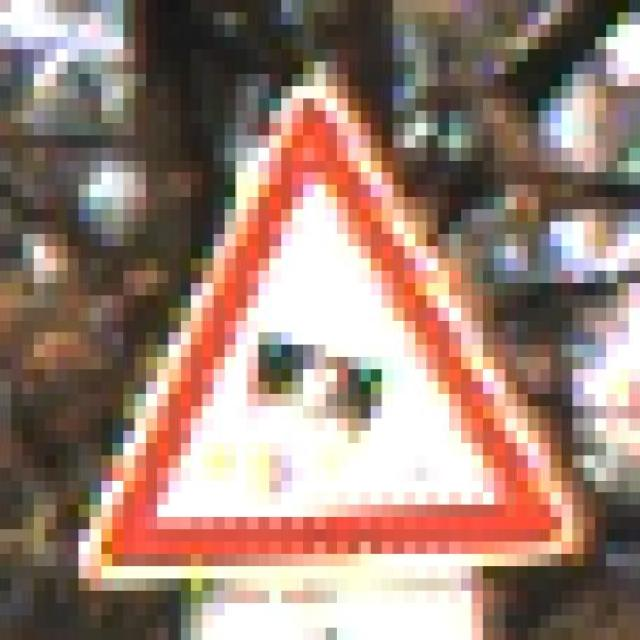Slippery Road Ahead: (67, 62, 607, 590)
